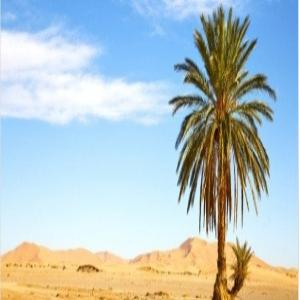palm tree: (168, 3, 276, 299)
